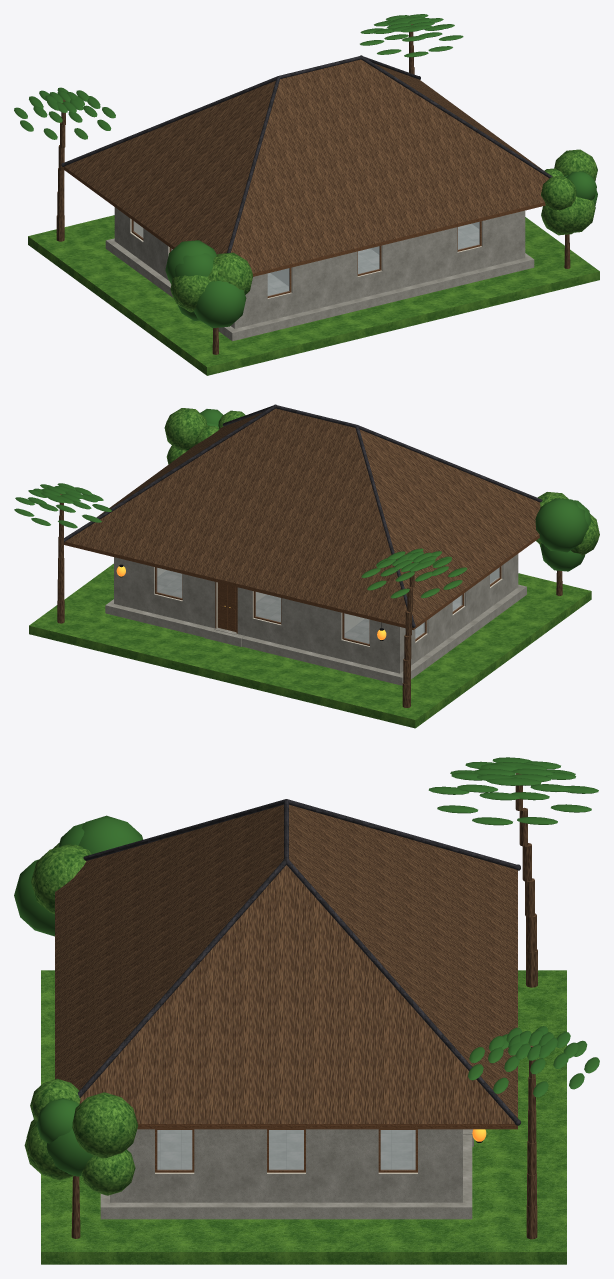
Rendered from b_bali_villa.gltf.
The picture shows the model from 3 angles, top to bottom: view 1: azimuth 30°, elevation 25°; view 2: azimuth 150°, elevation 25°; view 3: azimuth 270°, elevation 25°; orthographic projection. The views are drawn at different scales.
Parts seen in each view (by area): view 1: S_bali_villa; view 2: S_bali_villa, D_bali_villa_F1_S3_Door0; view 3: S_bali_villa.
Part boxes in pixels (bbox=[...]): S_bali_villa: bbox=[14, 14, 599, 375]; S_bali_villa: bbox=[14, 404, 599, 728]; D_bali_villa_F1_S3_Door0: bbox=[217, 582, 227, 629]; S_bali_villa: bbox=[14, 757, 599, 1264].
Bounding box in the file's own units: 21.33 × 9.3 × 16.71.
Materials: 19 (11 with a texture image).
